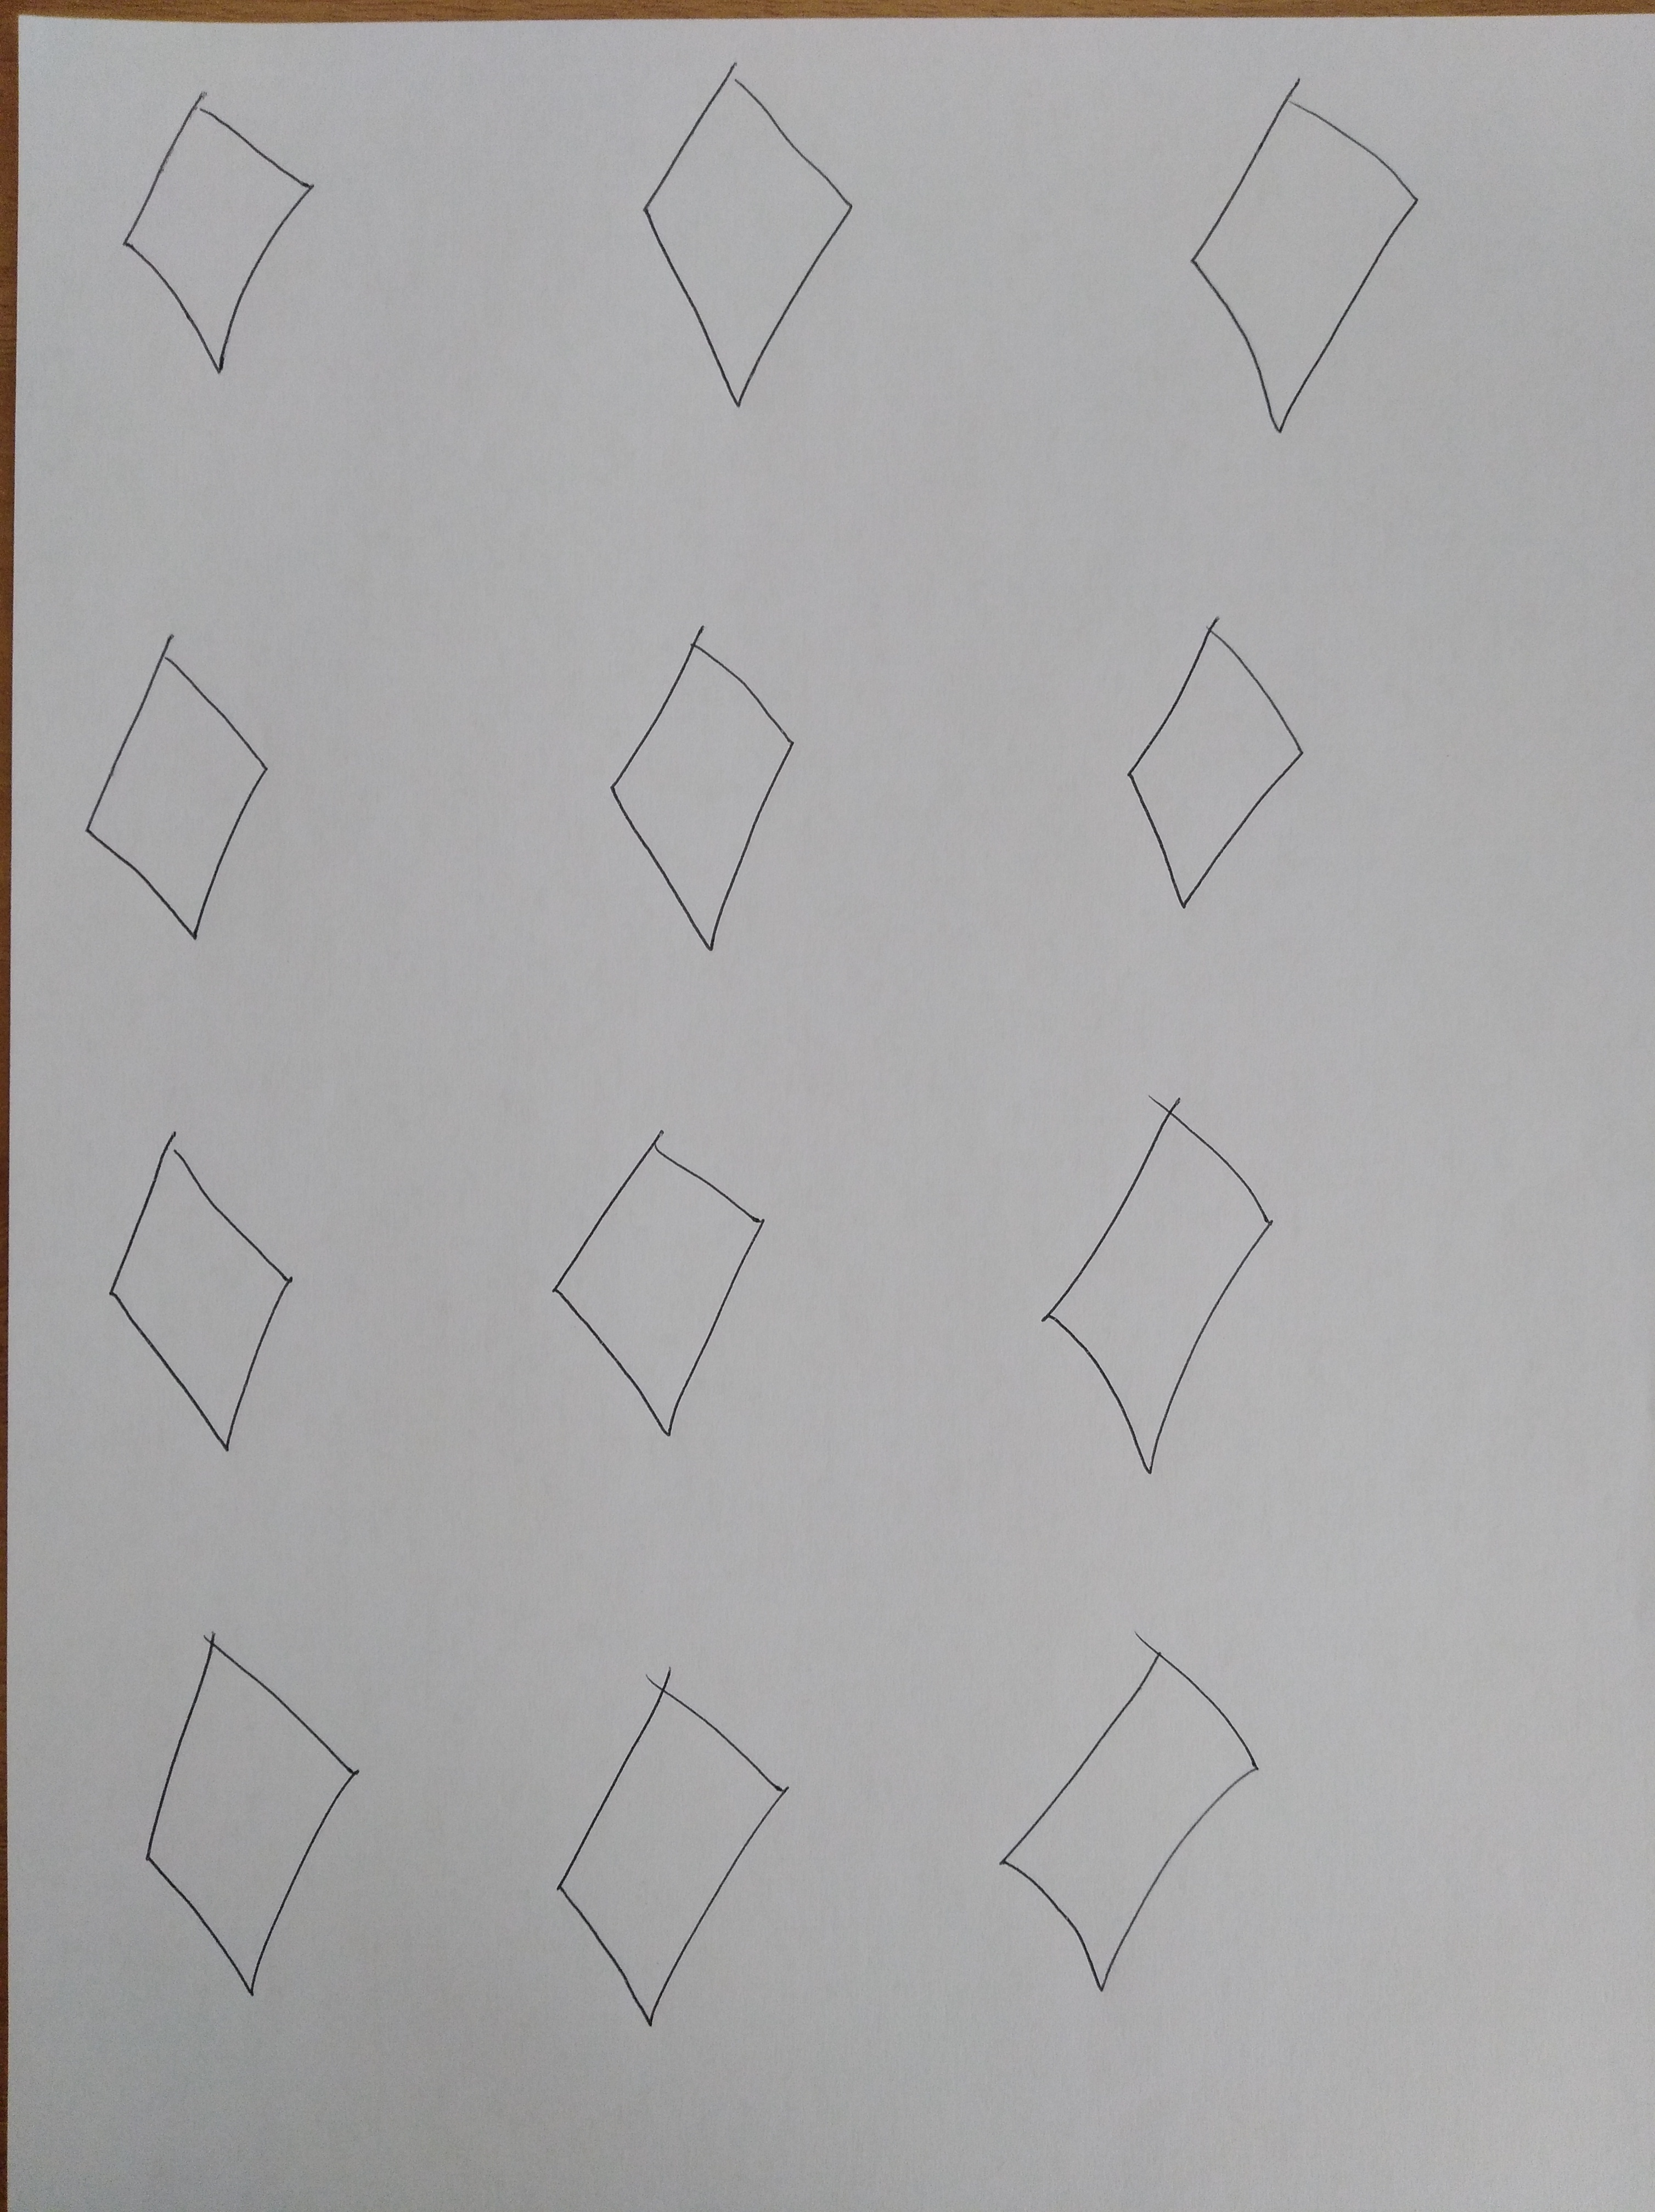decision: (951, 1597, 1293, 2023), (1125, 43, 1462, 471), (504, 1618, 821, 2052), (581, 43, 920, 436), (1003, 1076, 1309, 1494), (108, 1606, 409, 2021), (546, 608, 864, 973), (511, 1098, 810, 1482), (52, 1105, 353, 1477), (73, 59, 382, 400), (45, 603, 320, 966), (1067, 593, 1332, 947)
